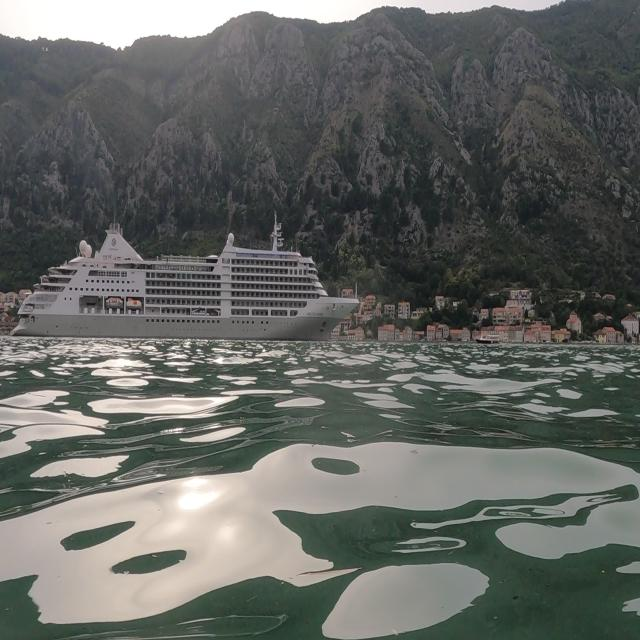boat: (11, 208, 361, 344)
